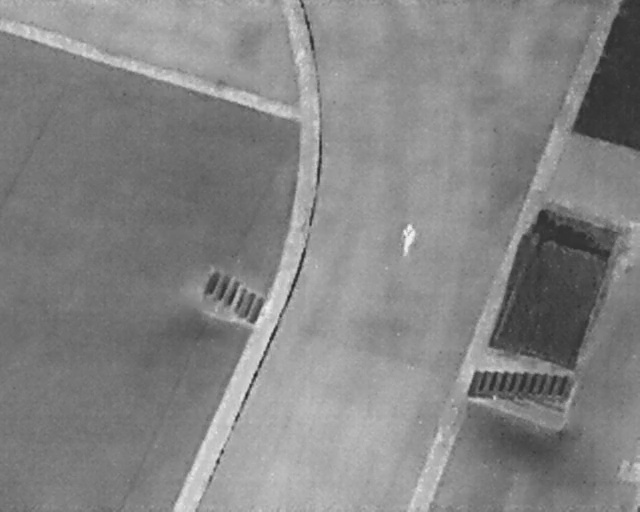Person: (398, 221, 418, 260)
